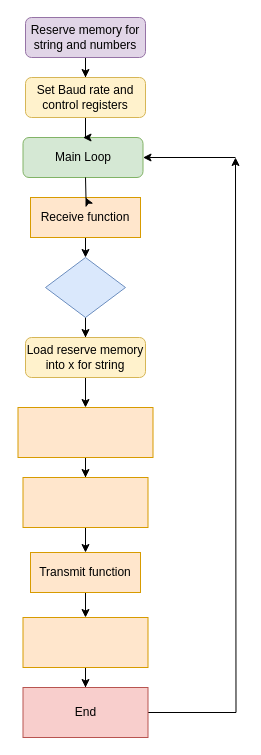
The diagram is 261 pixels wide and 755 high, and some of its shapes have lost their labels. The shapes that lost their labels are listed below. From the top down, each one's centre as x and y in pixels, then its label:
At (x=85, y=287): "Delay".
At (x=85, y=432): "Process the string and store back into memory location".
At (x=85, y=502): "Copy numerical chars into another memory location".
At (x=85, y=642): "Scroll numbers memory location on the seven seg".
